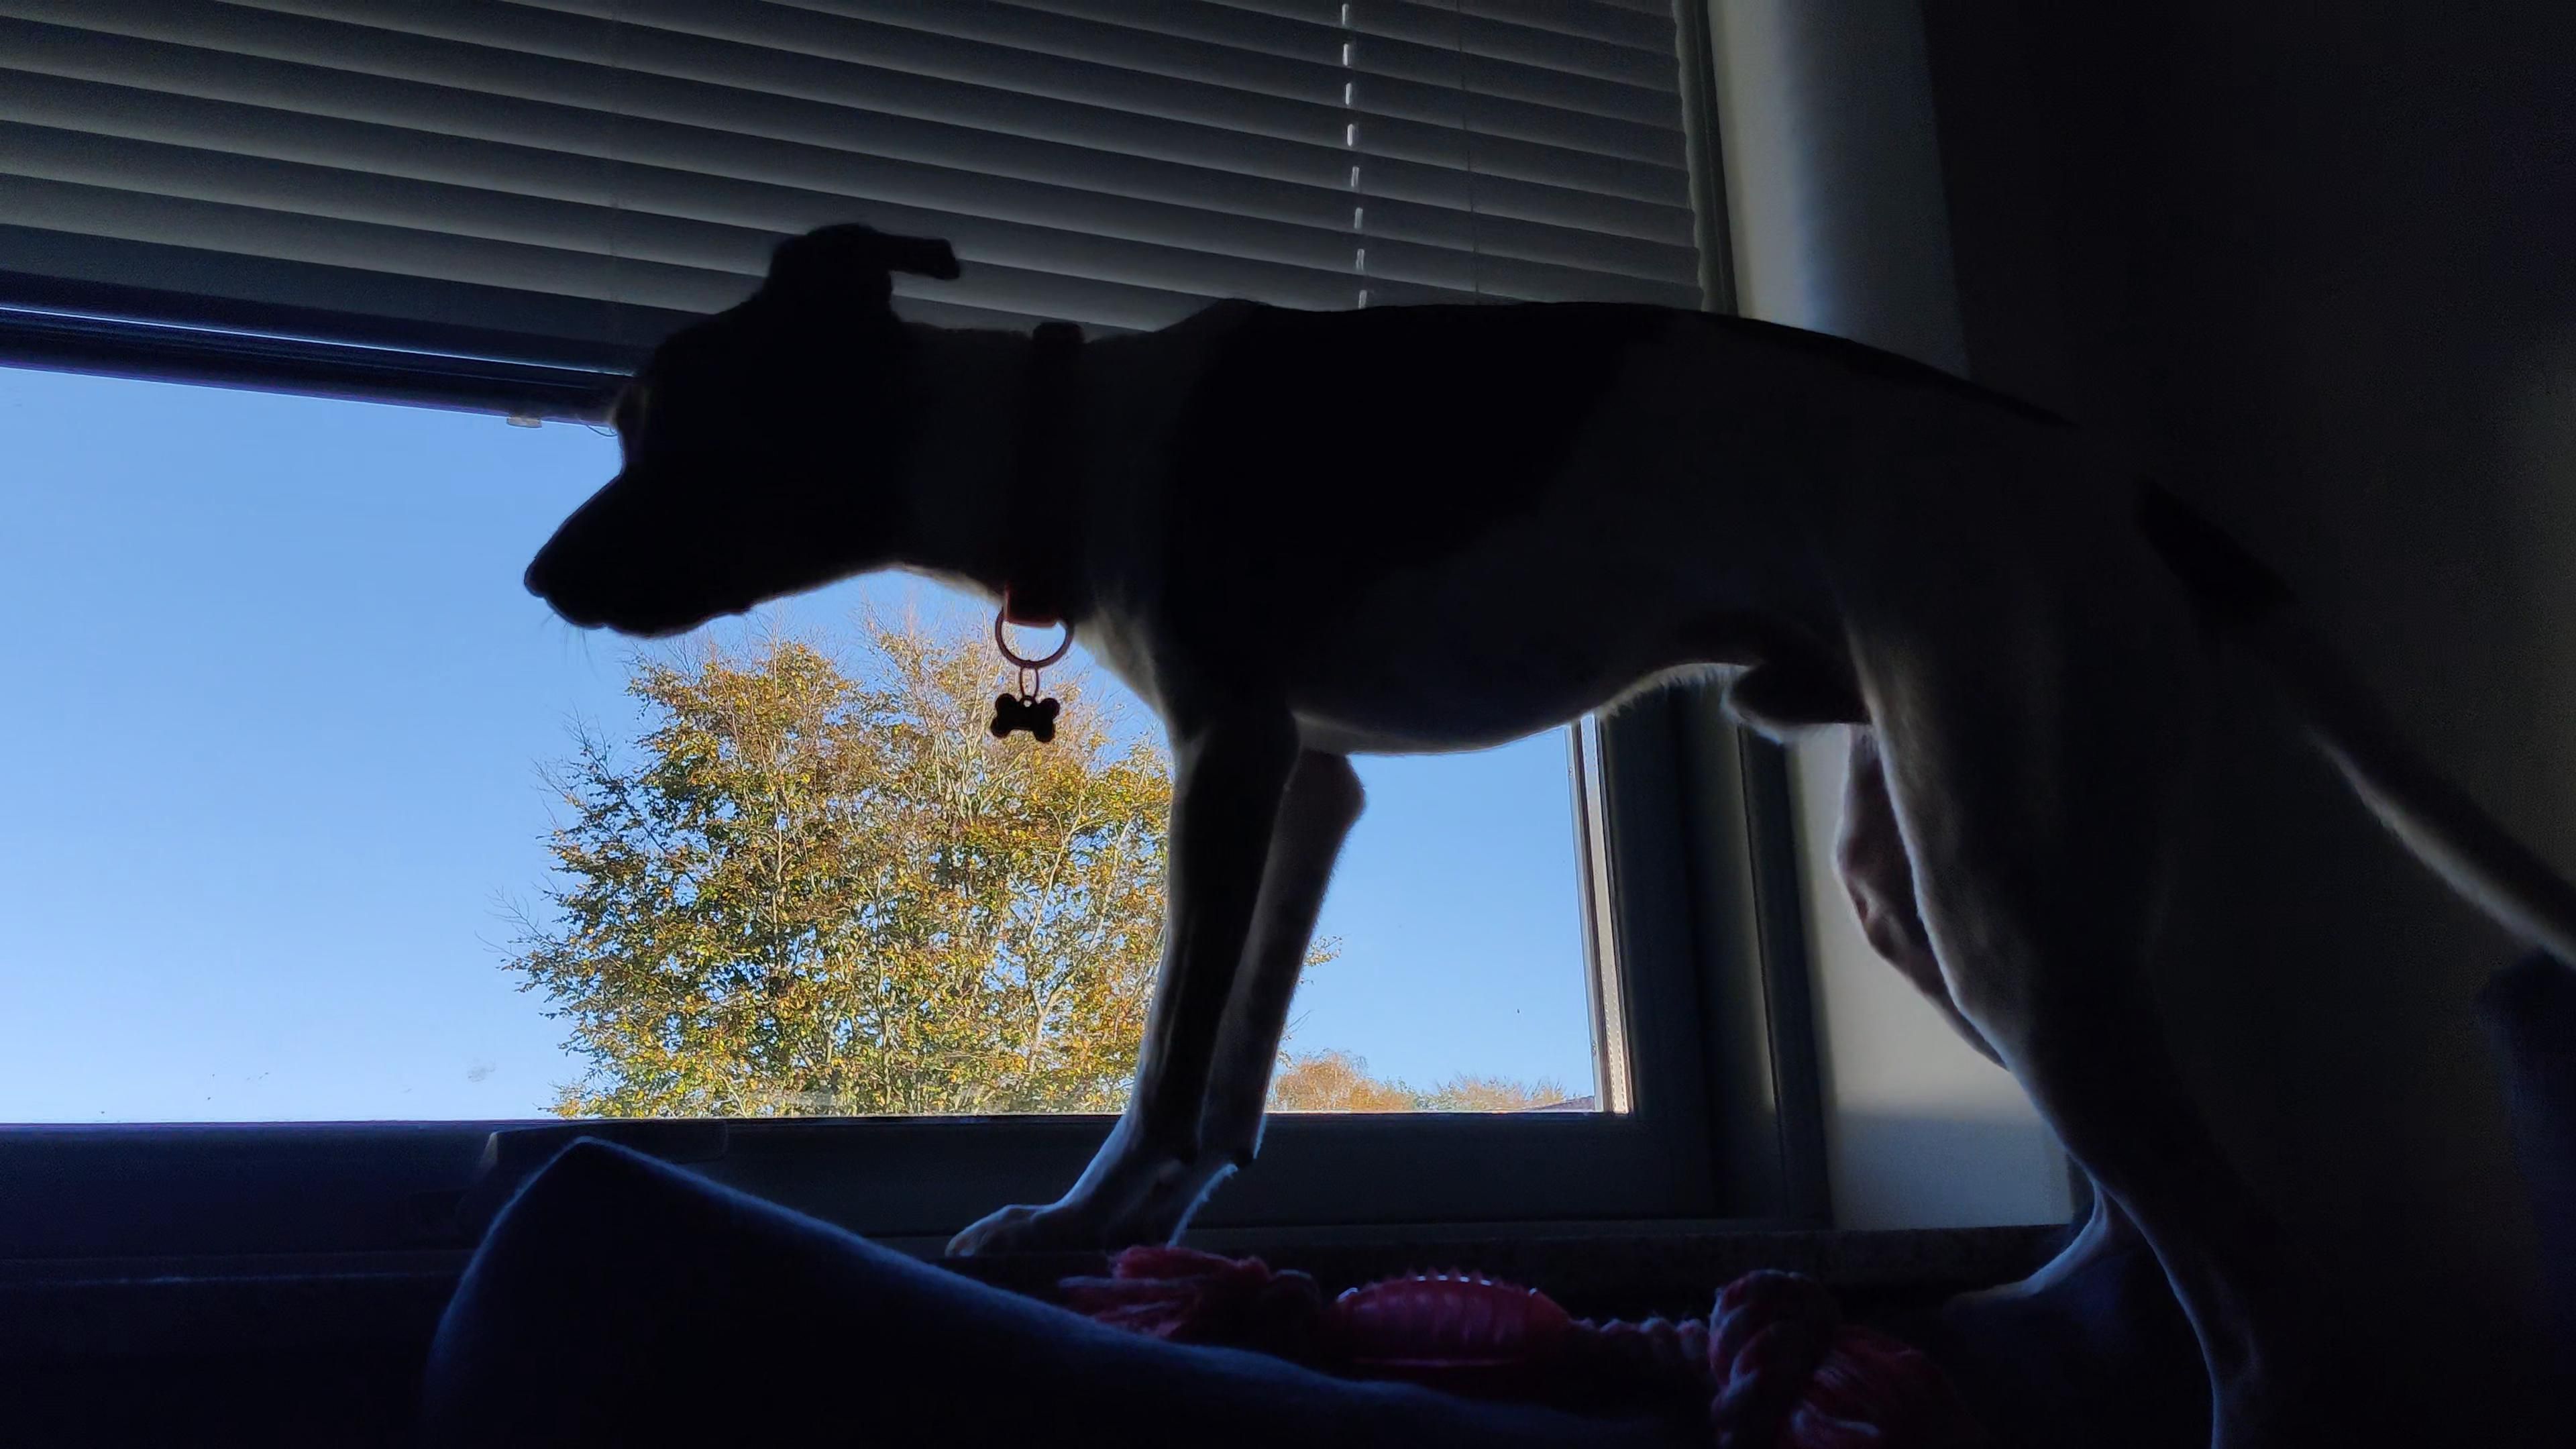Dog: (513, 200, 2576, 1449)
